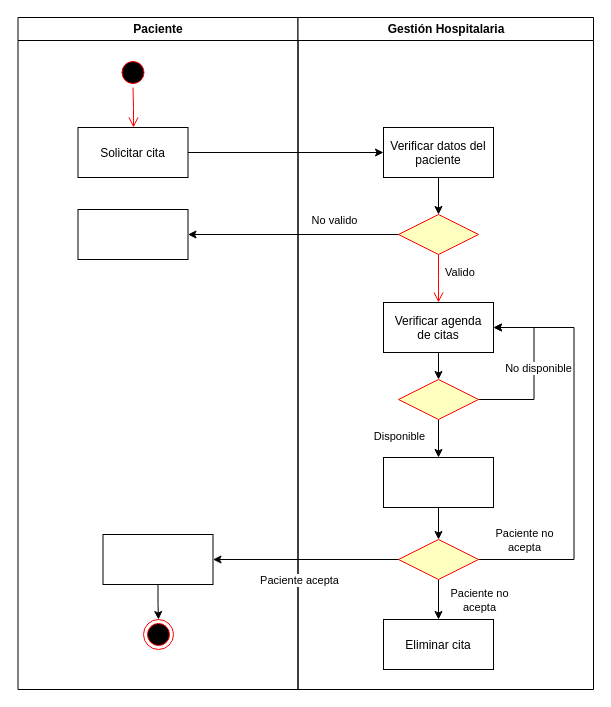
Some shapes in this 611 by 707 pixel diagram are drawn without their labels. The shapes that lost their labels are listed below. From the top down, each one's centre as x and y in pixels, then its label:
(132,234): Rechazar paciente
(438,482): Agendar cita
(157,559): Entregar cita a paciente
